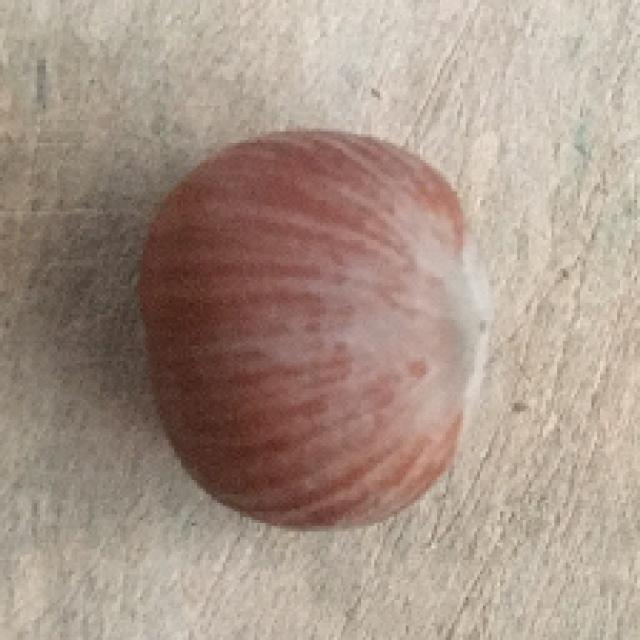QualityHazelnut: (135, 131, 492, 528)
